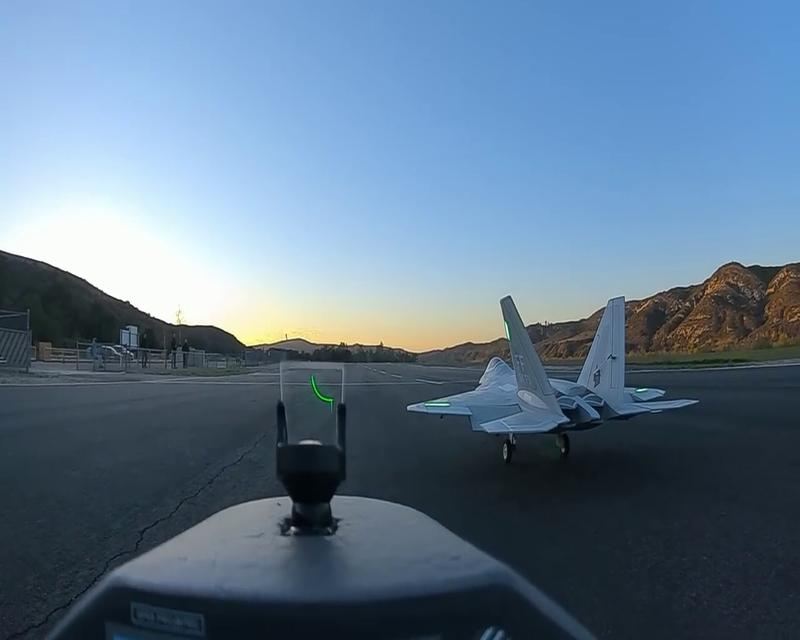UAV: (406, 295, 700, 462)
